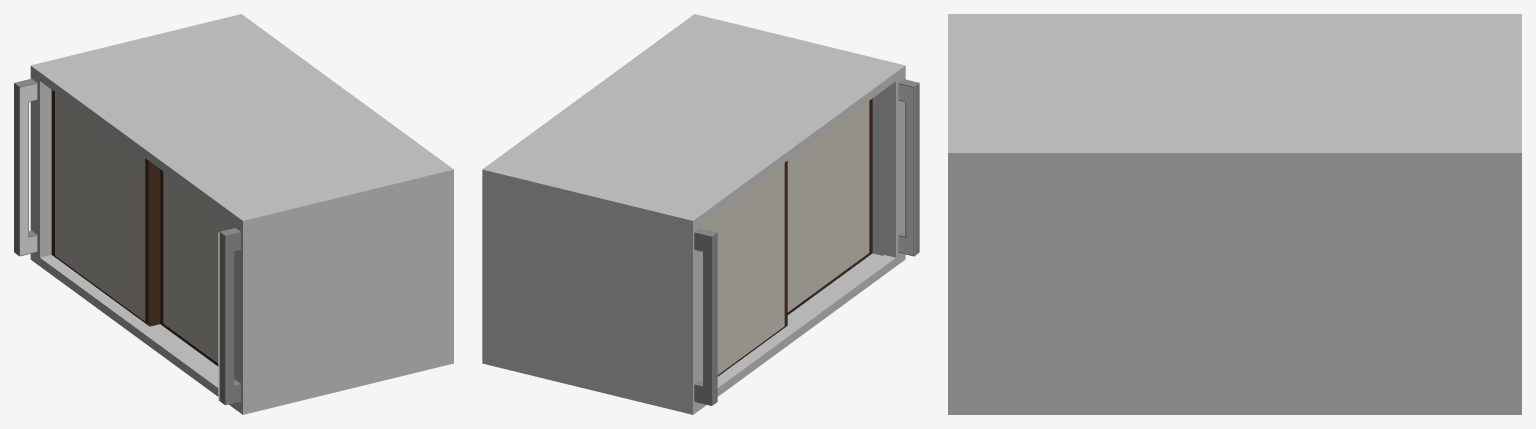
The model's file is armariocomcandeeiro.fbx.
3 renders of one model, left to right at view 1: azimuth 30°, elevation 25°; view 2: azimuth 150°, elevation 25°; view 3: azimuth 270°, elevation 25°, orthographic. The views are drawn at different scales.
Parts seen in each view (by area): view 1: Cube.005, portaesquerda, portadireita, Coridor HM-W 700_base.001, Coridor HM-W 700_light, Coridor HM-W 700_base; view 2: Cube.005, portadireita, portaesquerda, Coridor HM-W 700_base, Coridor HM-W 700_light.001, Coridor HM-W 700_base.001; view 3: Cube.005.
Boxes of the visible parts, bbox=[...] form: Cube.005: bbox=[30, 14, 453, 414]; portaesquerda: bbox=[51, 90, 160, 326]; portadireita: bbox=[160, 169, 233, 366]; Coridor HM-W 700_base.001: bbox=[219, 228, 241, 405]; Coridor HM-W 700_light: bbox=[20, 83, 37, 255]; Coridor HM-W 700_base: bbox=[14, 78, 37, 256]; Cube.005: bbox=[482, 14, 905, 414]; portadireita: bbox=[787, 98, 872, 314]; portaesquerda: bbox=[702, 161, 787, 380]; Coridor HM-W 700_base: bbox=[694, 228, 717, 405]; Coridor HM-W 700_light.001: bbox=[898, 84, 915, 256]; Coridor HM-W 700_base.001: bbox=[898, 79, 919, 256]; Cube.005: bbox=[948, 14, 1521, 414].
Bounding box in the file's own units: 5.42 × 8.72 × 4.39.
